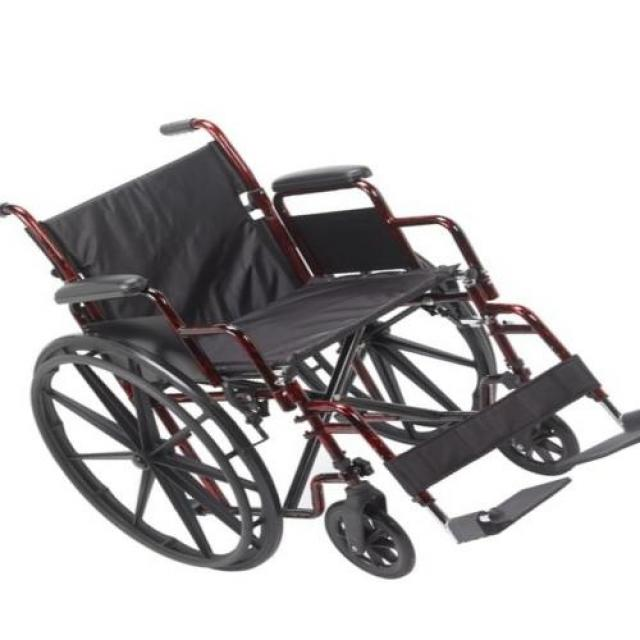wheelchair: (4, 104, 640, 586)
